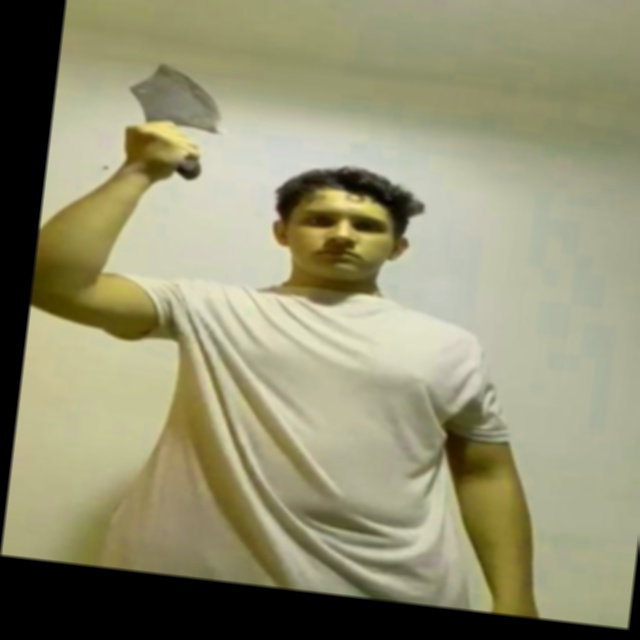Sharp-Object: (122, 58, 229, 134)
